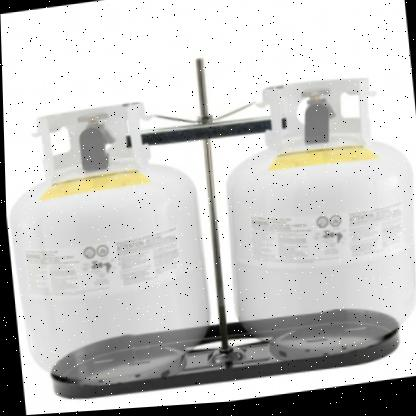gas-tank: (2, 78, 223, 404), (210, 57, 415, 381)
